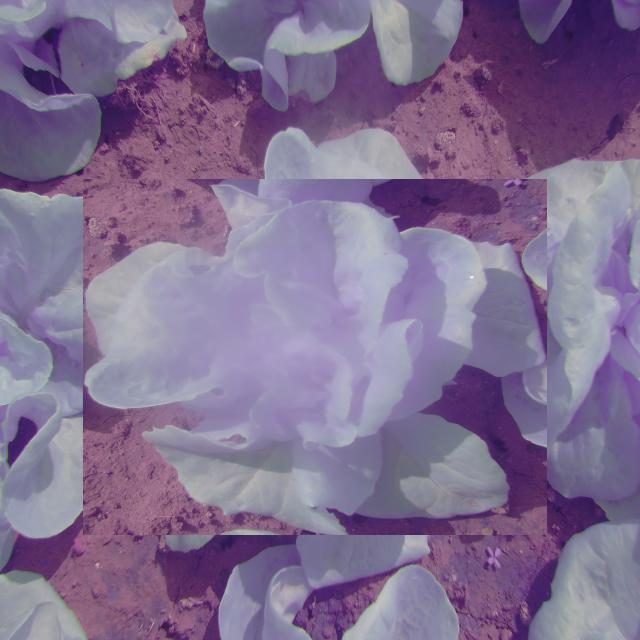vege: (110, 152, 521, 563)
